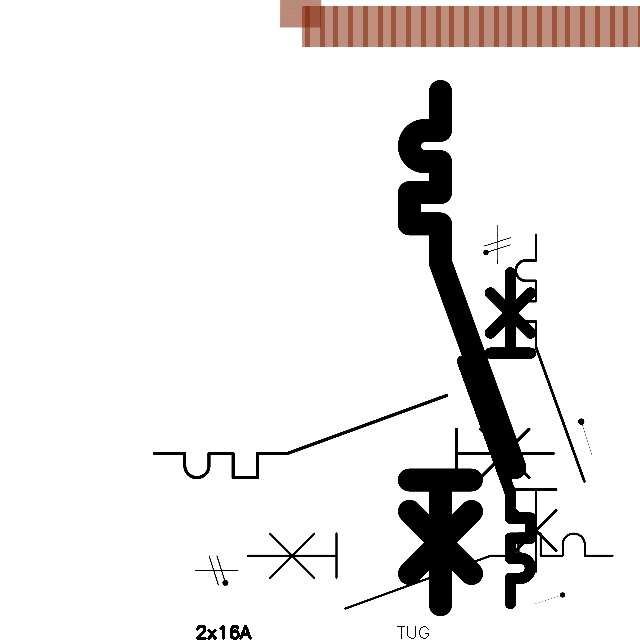interruptor_termomagnetico: (396, 78, 528, 618), (144, 385, 564, 488), (238, 524, 621, 618), (507, 226, 593, 580), (454, 264, 539, 612)
